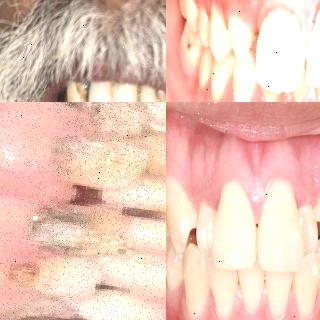Gum Swelling: (220, 0, 320, 48), (234, 165, 280, 224), (275, 161, 320, 209), (228, 287, 249, 319)
cavities: (49, 126, 133, 184), (16, 203, 112, 253), (67, 102, 145, 135), (19, 301, 71, 320), (180, 30, 196, 60)
maligned: (293, 254, 320, 316), (166, 182, 192, 244), (196, 206, 216, 254), (294, 207, 317, 243)
plaque: (289, 79, 311, 102), (260, 82, 280, 102)
stains: (72, 84, 90, 95)
